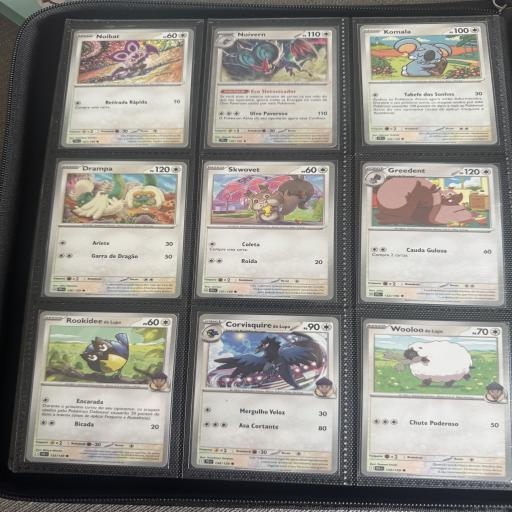card: (190, 311, 345, 474), (360, 319, 511, 484), (25, 309, 177, 467), (358, 161, 508, 306), (196, 159, 337, 301), (44, 161, 188, 298), (360, 22, 499, 147), (60, 28, 194, 148), (207, 26, 338, 148)
